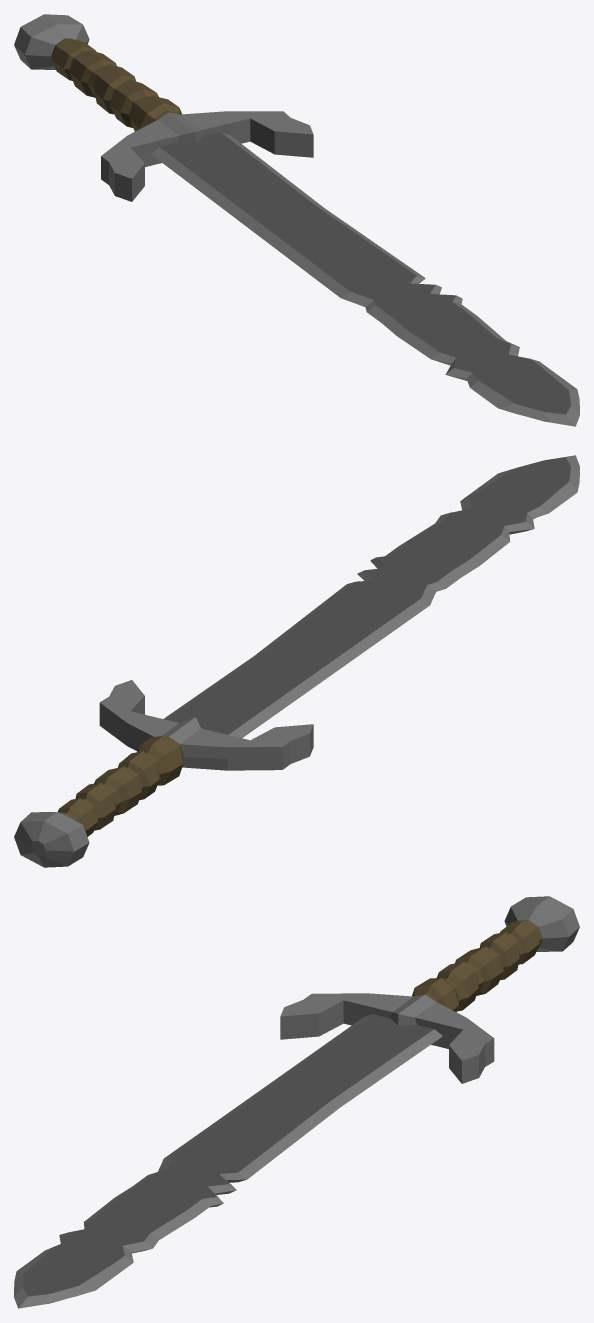
Rendered from sword.glb.
3 renders of one model, top to bottom at view 1: azimuth 30°, elevation 25°; view 2: azimuth 150°, elevation 25°; view 3: azimuth 330°, elevation 25°, orthographic.
Visible parts, largest first — view 1: Sword; view 2: Sword; view 3: Sword.
Boxes of the visible parts, x1=… form: Sword: x1=14, y1=14, x2=579, y2=426; Sword: x1=14, y1=455, x2=579, y2=867; Sword: x1=14, y1=896, x2=579, y2=1308.
Size of the model in its own units: 0.1815 by 0.0415 by 0.8666.
